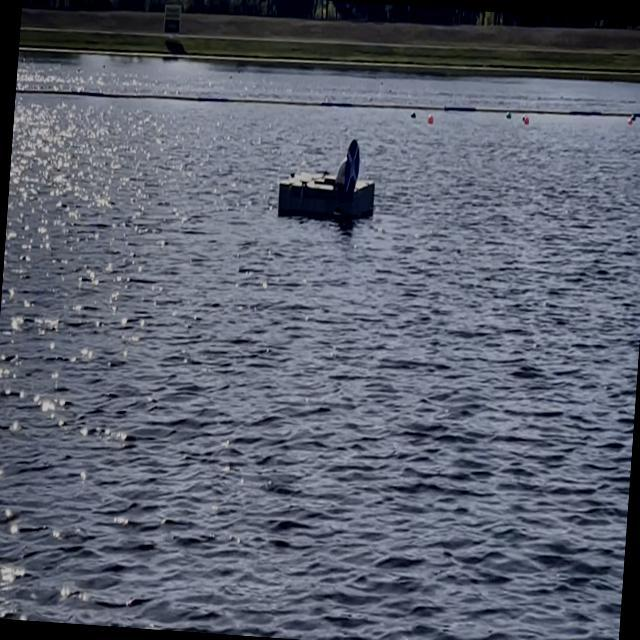buoy: (522, 114, 530, 129), (506, 107, 512, 121), (410, 110, 418, 120), (428, 112, 434, 124)
